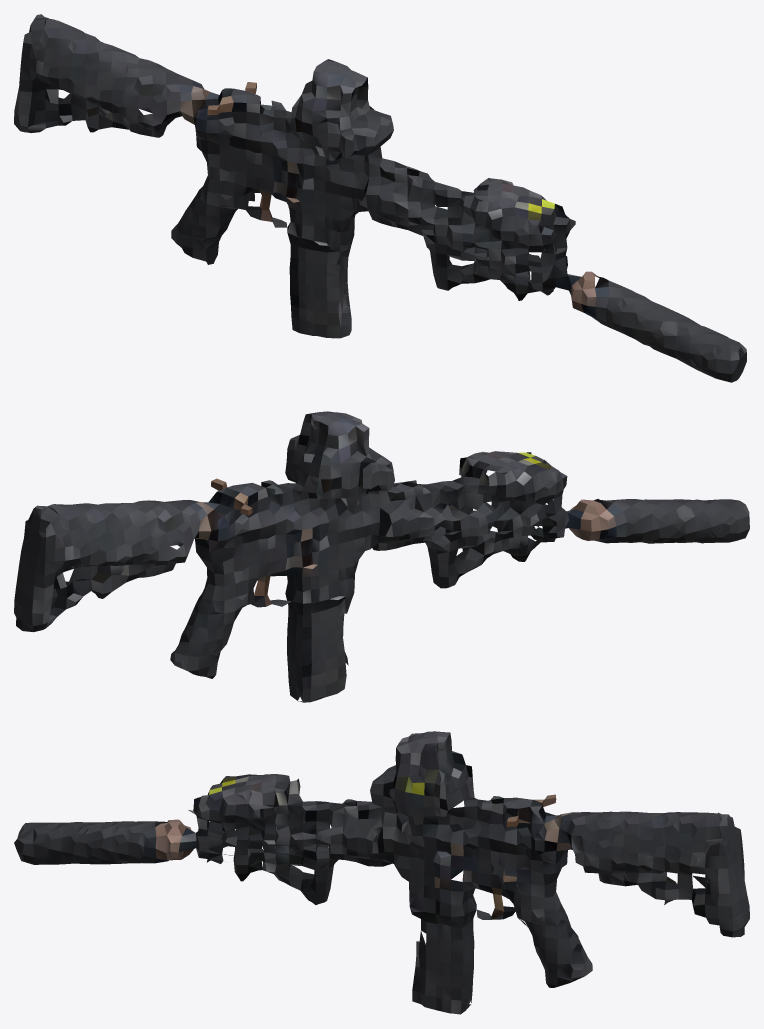
The model's file is masdim-senapan.glb.
The picture shows the model from 3 angles, top to bottom: view 1: azimuth 90°, elevation 25°; view 2: azimuth 150°, elevation 25°; view 3: azimuth 270°, elevation 25°; orthographic projection. The views are drawn at different scales.
Visible parts, largest first — view 1: masdim-senapan; view 2: masdim-senapan; view 3: masdim-senapan.
Part boxes in pixels (x1,y1,x2,y2): masdim-senapan: [14, 14, 746, 382]; masdim-senapan: [14, 411, 749, 702]; masdim-senapan: [14, 731, 749, 1014].
Size of the model in its own units: 0.5593 by 0.3973 by 0.9765.
Materials: 1 (1 with a texture image).
